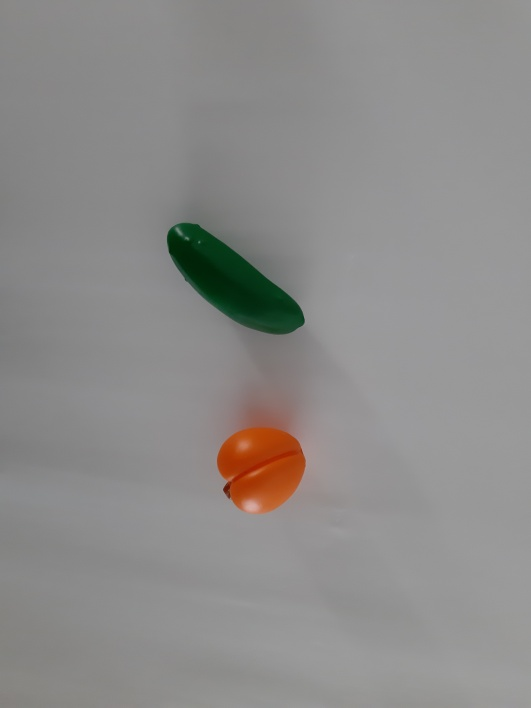apricot: (191, 410, 329, 536)
cucumber: (156, 211, 328, 353)
